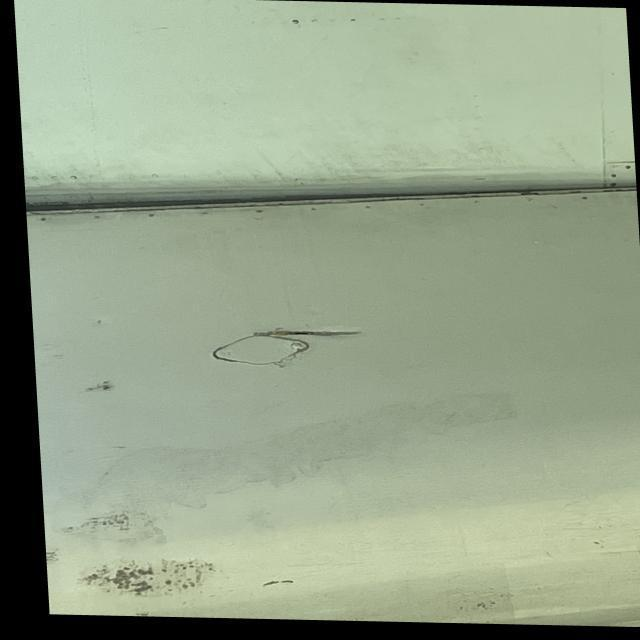crack: (259, 325, 365, 341)
